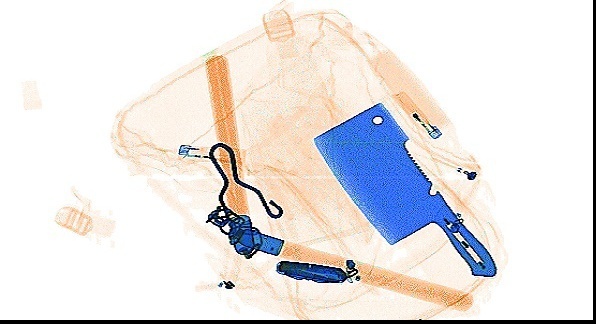knife: (310, 99, 498, 280), (274, 258, 359, 286)
lighter: (388, 90, 444, 142), (173, 142, 249, 166)
slingshot: (204, 139, 284, 236)
